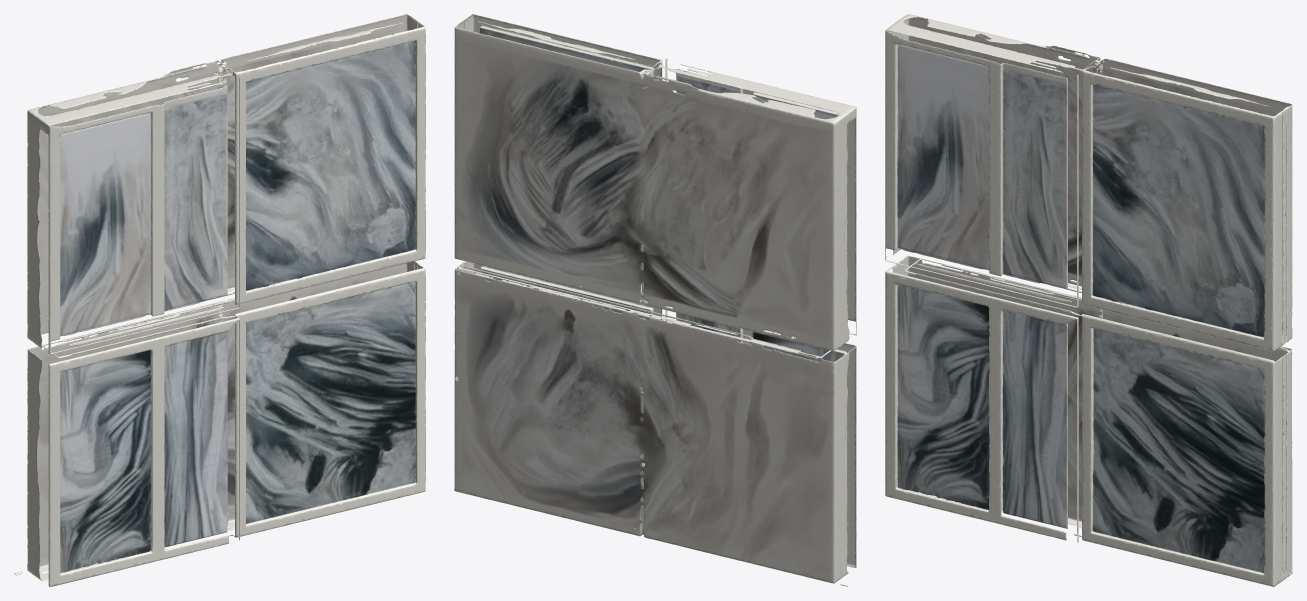
Rendered from B073NZFTGD.glb.
The picture shows the model from 3 angles, left to right: view 1: azimuth 30°, elevation 25°; view 2: azimuth 150°, elevation 25°; view 3: azimuth 330°, elevation 25°; orthographic projection.
Visible parts, largest first — view 1: geometry_0; view 2: geometry_0; view 3: geometry_0.
Boxes of the visible parts, box(x1,y1,x2,y2) form: geometry_0: box(14, 14, 425, 586); geometry_0: box(454, 14, 856, 586); geometry_0: box(885, 14, 1292, 586).
Bounding box in the file's own units: 0.8844 × 1 × 0.0898.
1 material, 1 textured.
